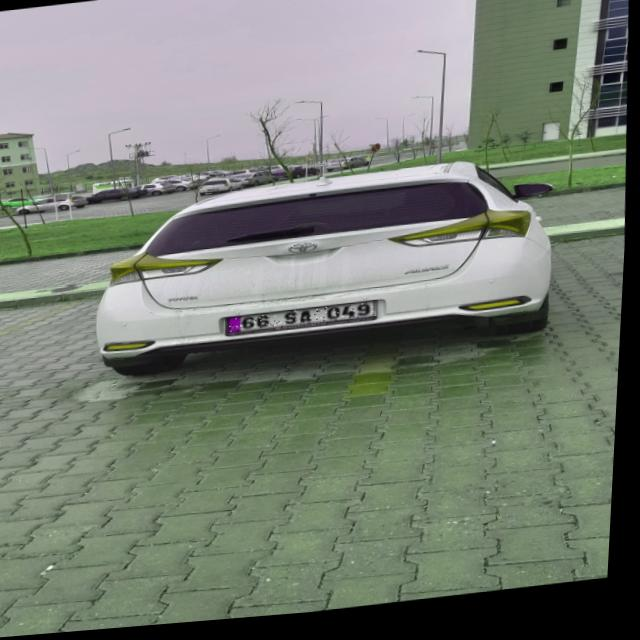license_plate: (229, 307, 378, 337)
